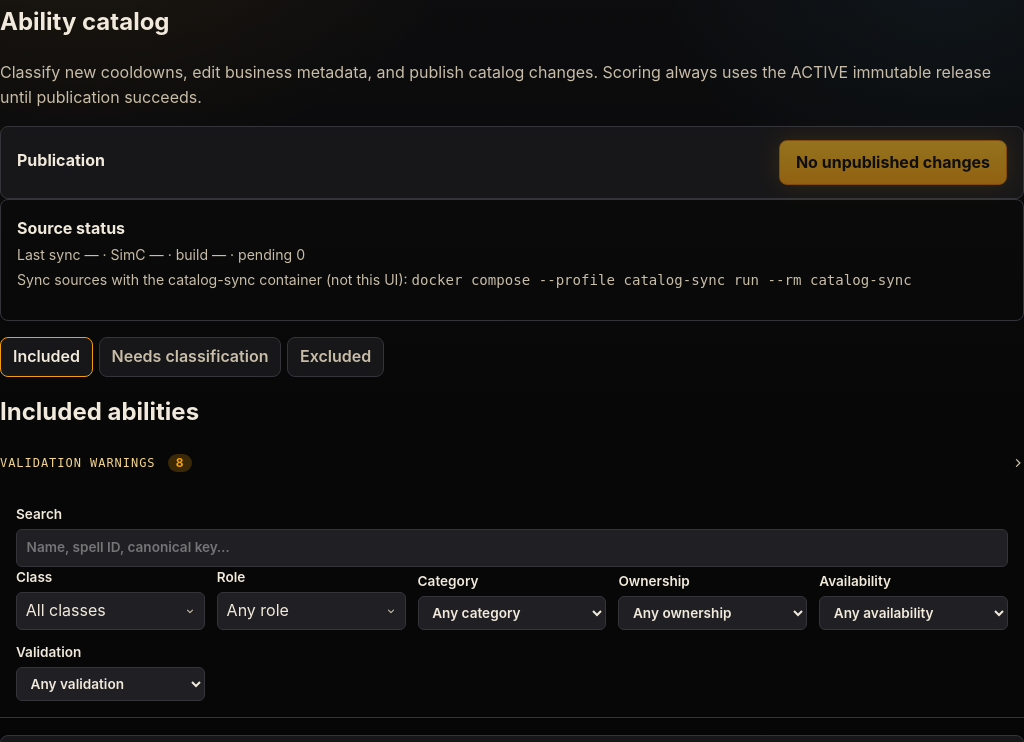
Test: AdminAbilityCatalogPage › shows empty state when no matches
Expected: the element with test id "catalog-sticky-bar" is shown, top-left (0, 492), bottom-right (1023, 719)
Type "zzzznonexistent99999" into the search field with test id "catalog-search" at (512, 548), box top-left (16, 529), bottom-right (1008, 567)
(page scrolled)
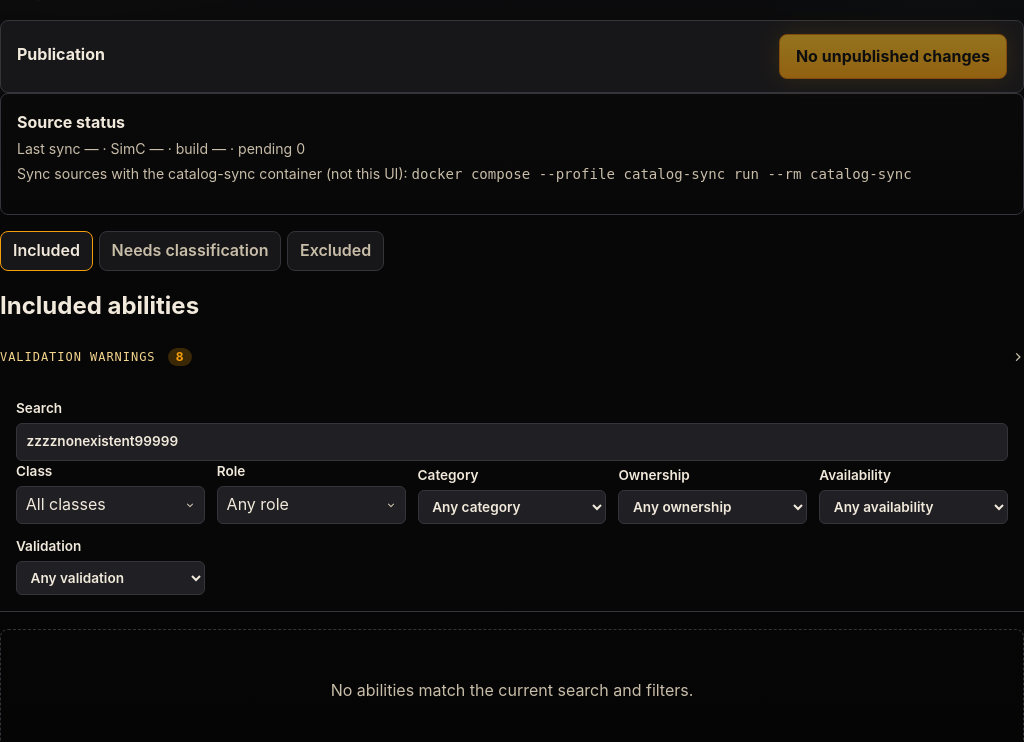
Result: the element with test id "empty-state" shows "No abilities match" at top-left (331, 680), bottom-right (693, 700)
